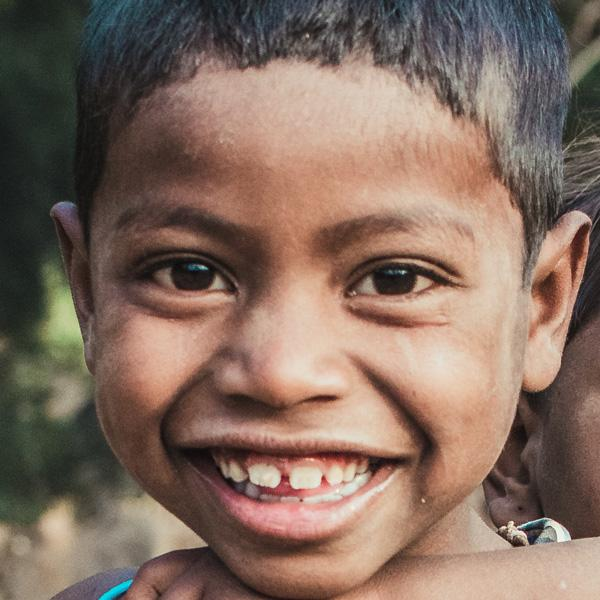Eyes: (122, 238, 246, 319), (336, 247, 462, 321)
